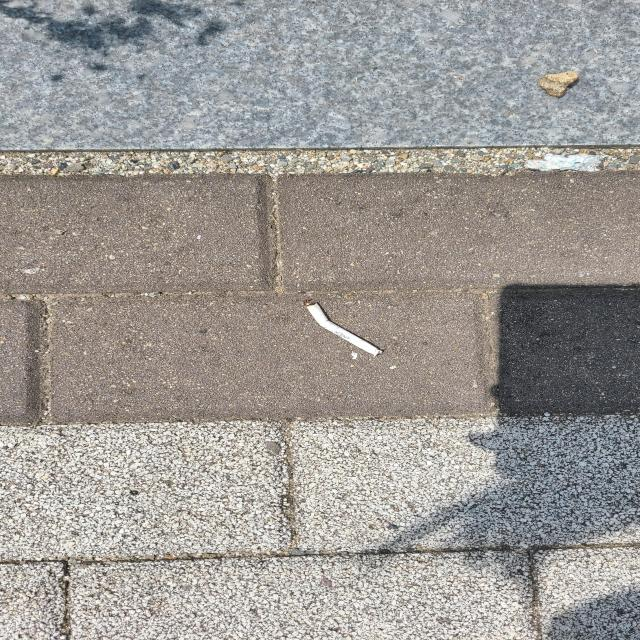litter: (294, 304, 392, 356)
